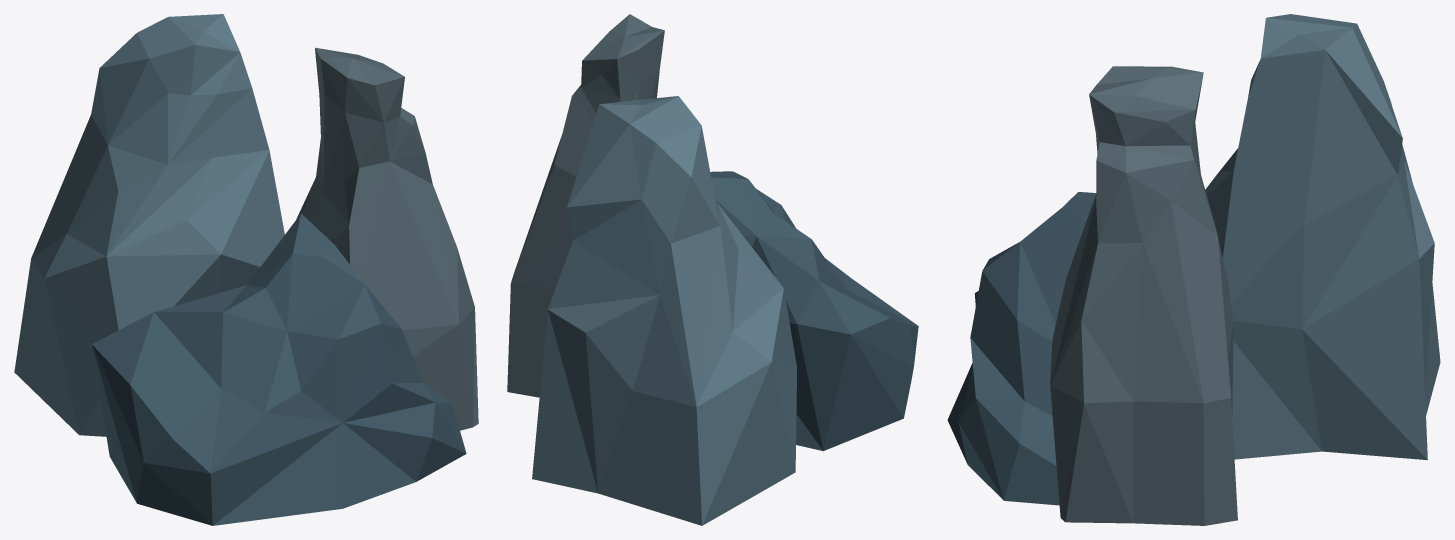
The model's file is RH_Rock05.fbx.
3 views of the same model, side by side, from view 1: azimuth 30°, elevation 25°; view 2: azimuth 150°, elevation 25°; view 3: azimuth 270°, elevation 25° (orthographic). The views are drawn at different scales.
Visible parts, largest first — view 1: RH_Rock05; view 2: RH_Rock05; view 3: RH_Rock05.
Part boxes in pixels (x1,y1,x2,y2): RH_Rock05: [14, 14, 478, 525]; RH_Rock05: [507, 14, 918, 525]; RH_Rock05: [947, 14, 1440, 525].
Bounding box in the file's own units: 103 × 102 × 114.
Materials: 1 (1 with a texture image).
